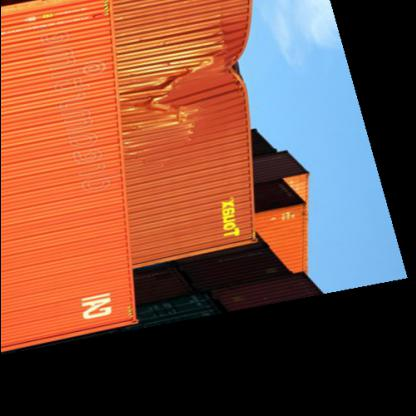Damage: (145, 53, 244, 138)
